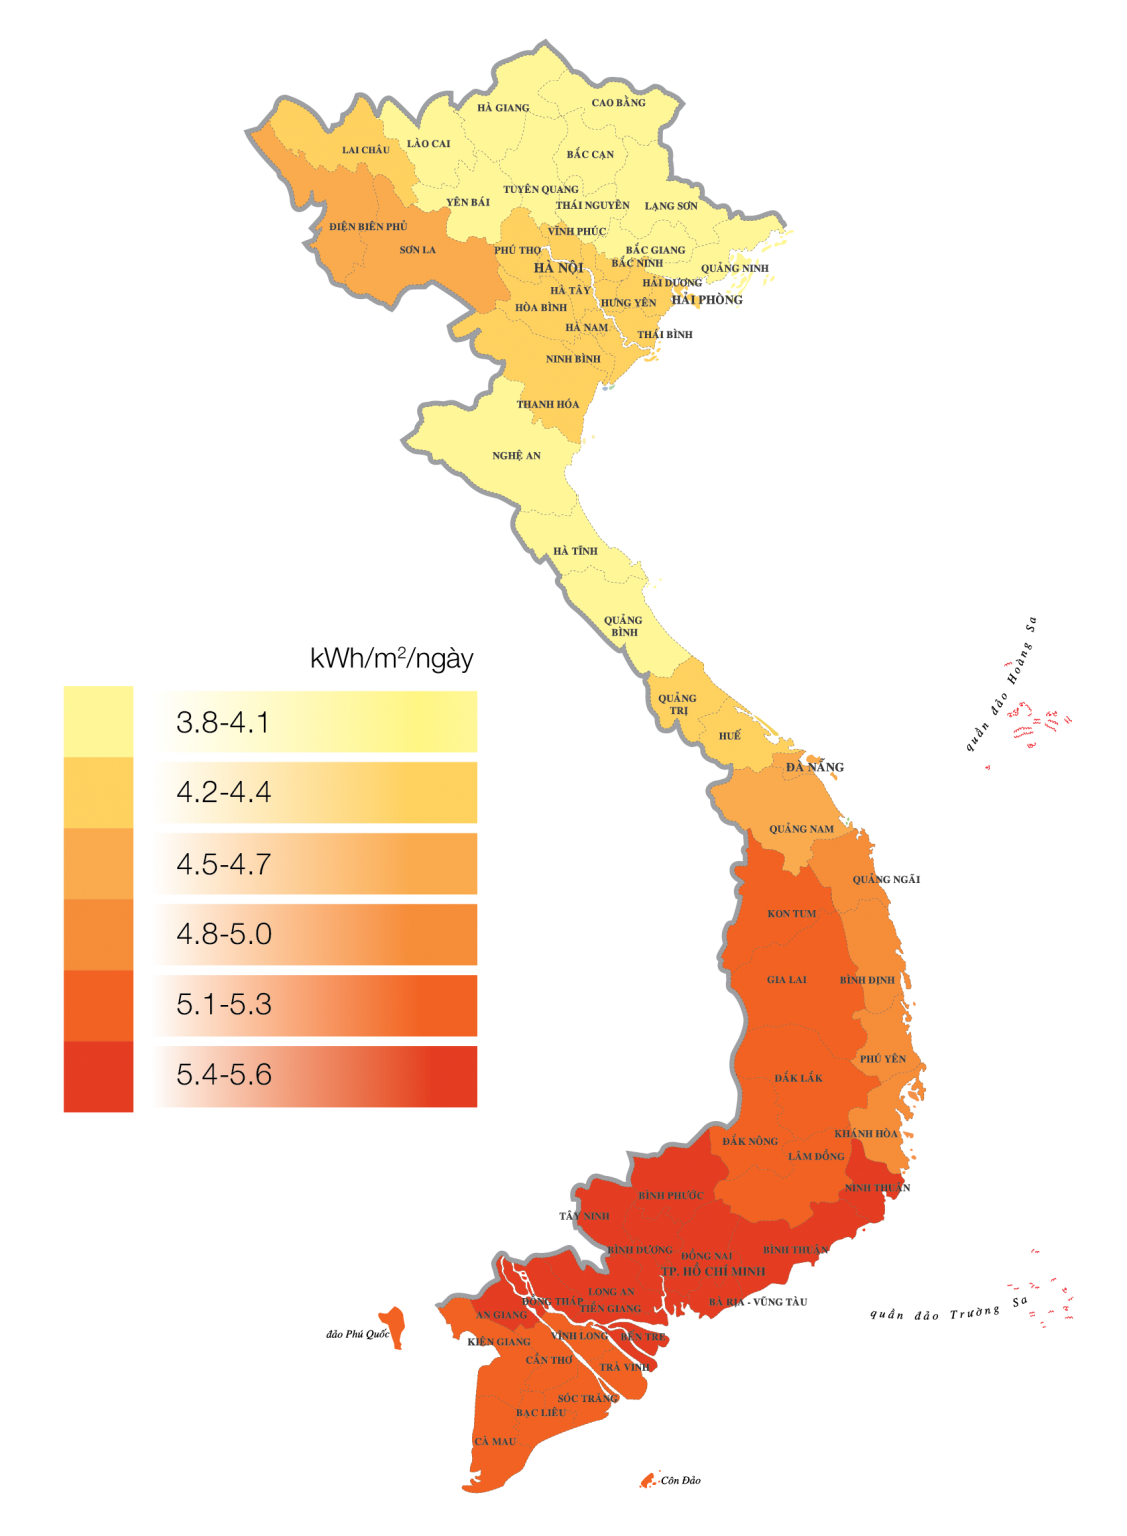Island: (946, 596, 1097, 778), (871, 1256, 1086, 1363)
